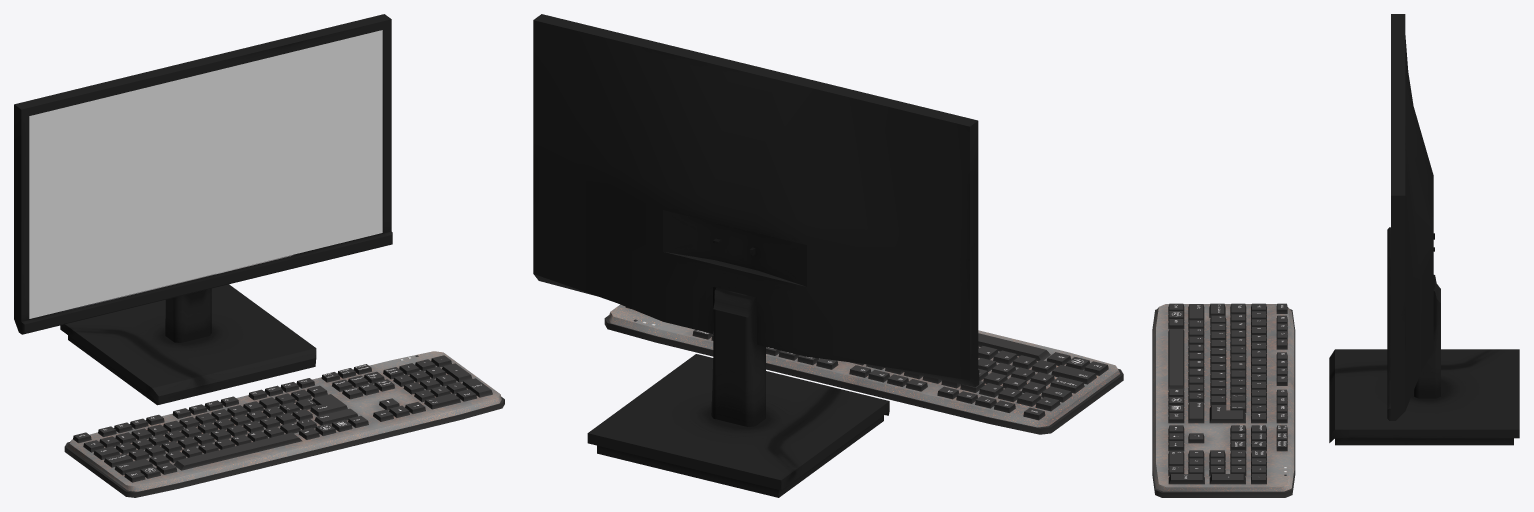
Rendered from Pantalla Gamma Media.fbx.
The picture shows the model from 3 angles, left to right: view 1: azimuth 30°, elevation 25°; view 2: azimuth 150°, elevation 25°; view 3: azimuth 270°, elevation 25°; orthographic projection. The views are drawn at different scales.
Visible parts, largest first — view 1: Pantalla Gamma Media; view 2: Pantalla Gamma Media; view 3: Pantalla Gamma Media.
Boxes of the visible parts, left/top/right/bottom form: Pantalla Gamma Media: left=14, top=14, right=504, bottom=497; Pantalla Gamma Media: left=533, top=14, right=1123, bottom=497; Pantalla Gamma Media: left=1152, top=14, right=1519, bottom=497.
Size of the model in its own units: 113 by 85.57 by 94.06.
